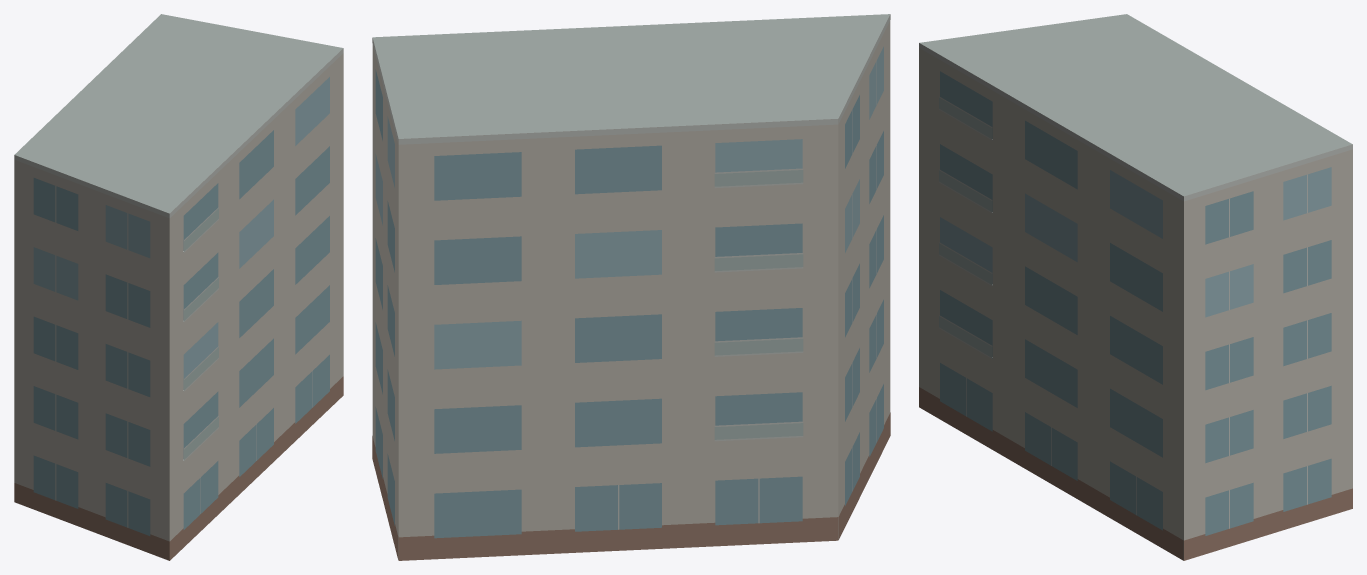
Rendered from residential-d01d93a5-e8da-4b75-95c6-d669974059b3.glb.
The picture shows the model from 3 angles, left to right: view 1: azimuth 30°, elevation 25°; view 2: azimuth 150°, elevation 25°; view 3: azimuth 270°, elevation 25°; orthographic projection. The views are drawn at different scales.
Visible parts, largest first — view 1: residential-d01d93a5-e8da-4b75-95c6-d669974059b3.tmp; view 2: residential-d01d93a5-e8da-4b75-95c6-d669974059b3.tmp; view 3: residential-d01d93a5-e8da-4b75-95c6-d669974059b3.tmp.
Boxes of the visible parts, box(x1,y1,x2,y2) form: residential-d01d93a5-e8da-4b75-95c6-d669974059b3.tmp: box(14, 14, 343, 560); residential-d01d93a5-e8da-4b75-95c6-d669974059b3.tmp: box(372, 14, 890, 560); residential-d01d93a5-e8da-4b75-95c6-d669974059b3.tmp: box(919, 14, 1352, 560).
Bounding box in the file's own units: 19.02 × 17.7 × 19.1.
